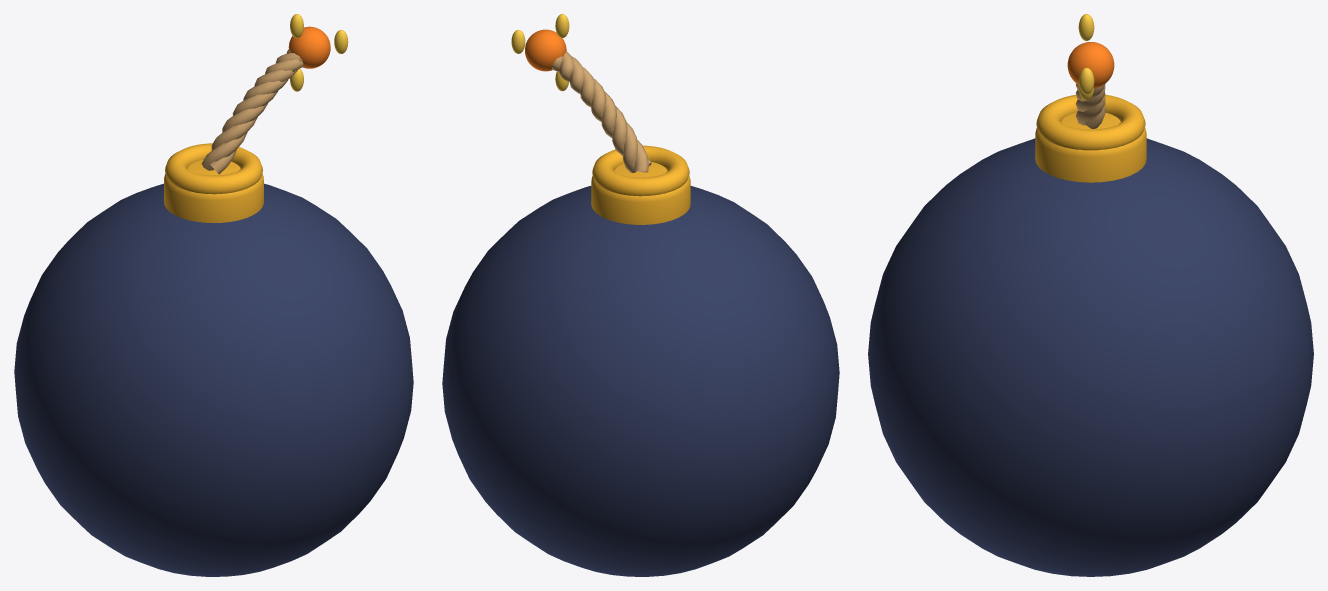
Rendered from bomb.glb.
3 views of the same model, side by side, from view 1: azimuth 30°, elevation 25°; view 2: azimuth 150°, elevation 25°; view 3: azimuth 270°, elevation 25° (orthographic). The views are drawn at different scales.
Parts seen in each view (by area): view 1: bomb; view 2: bomb; view 3: bomb.
Boxes of the visible parts, left/top/right/bottom form: bomb: left=14, top=14, right=413, bottom=576; bomb: left=442, top=14, right=839, bottom=576; bomb: left=868, top=14, right=1313, bottom=576.
Size of the model in its own units: 2 by 2.9 by 2.
